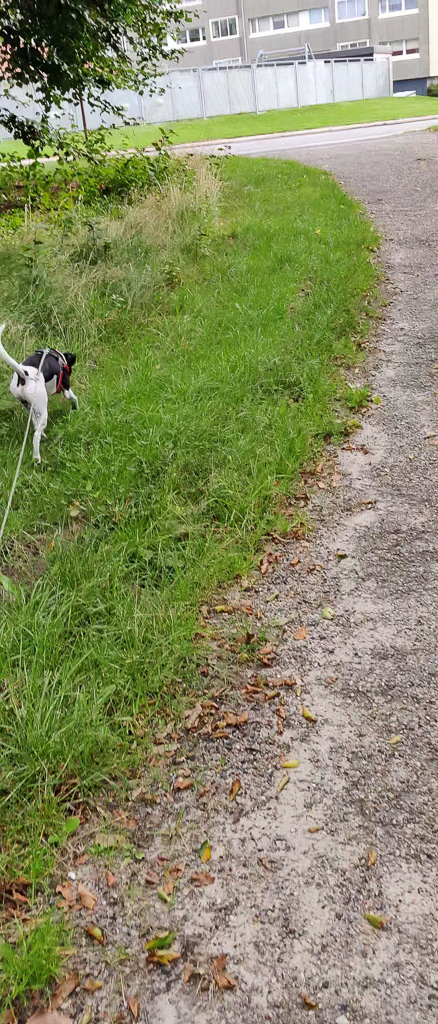Dog: (0, 313, 86, 473)
